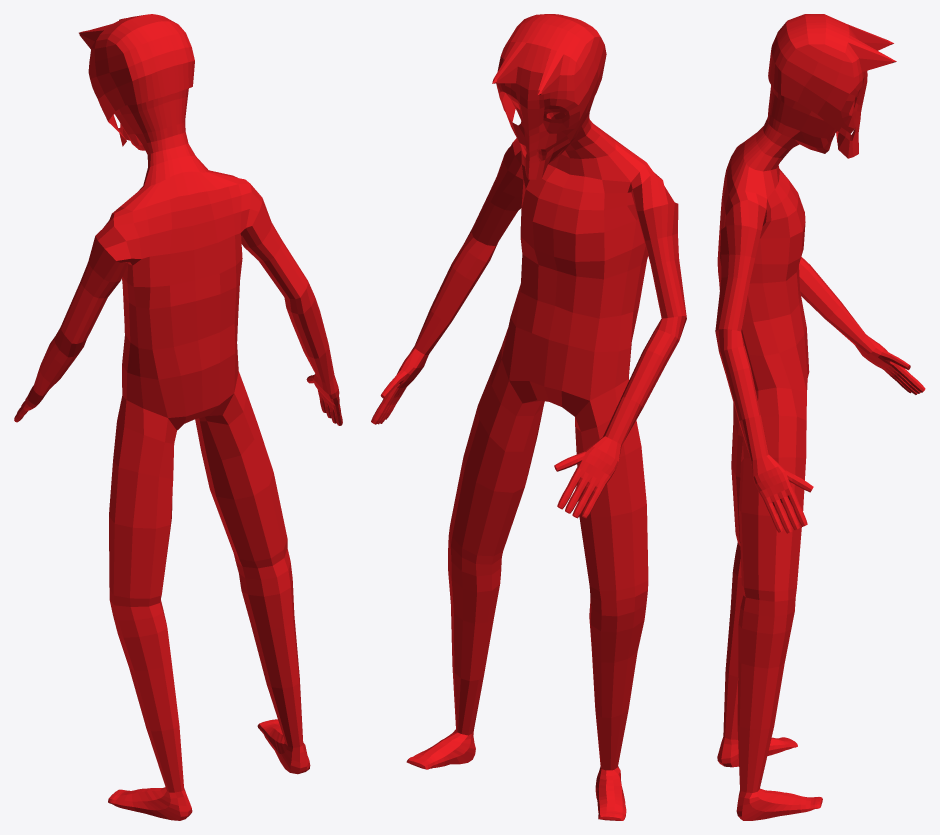
Rendered from reposoE_000306.obj.
3 views of the same model, side by side, from view 1: azimuth 30°, elevation 25°; view 2: azimuth 150°, elevation 25°; view 3: azimuth 270°, elevation 25° (orthographic). The views are drawn at different scales.
Parts seen in each view (by area): view 1: Plane.002_Plane.001; view 2: Plane.002_Plane.001; view 3: Plane.002_Plane.001.
Boxes of the visible parts, x1,y1,x2,y2 form: Plane.002_Plane.001: [14, 14, 342, 820]; Plane.002_Plane.001: [371, 14, 686, 820]; Plane.002_Plane.001: [715, 14, 925, 820].
Size of the model in its own units: 2.78 by 7.14 by 1.82.
